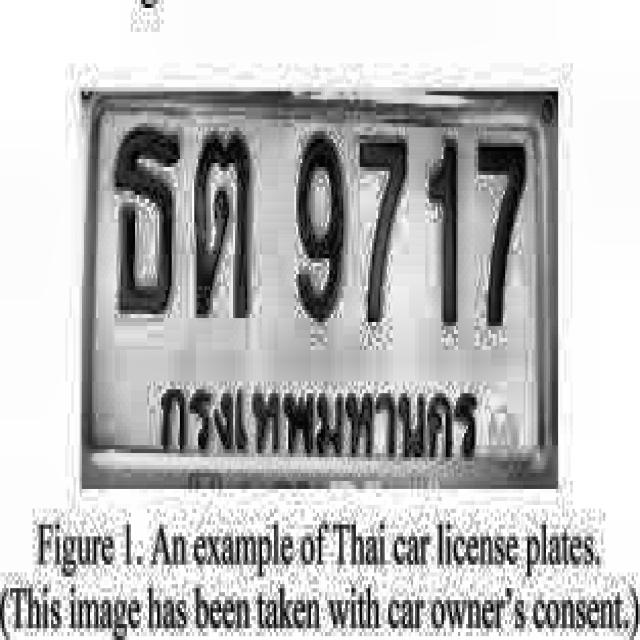license-plate: (83, 88, 557, 488)
